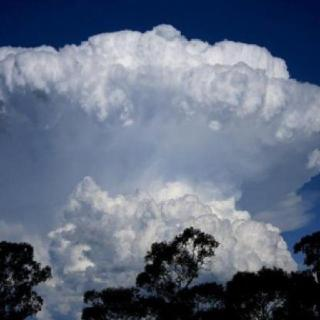Cumulonimbus: (0, 21, 320, 277)
